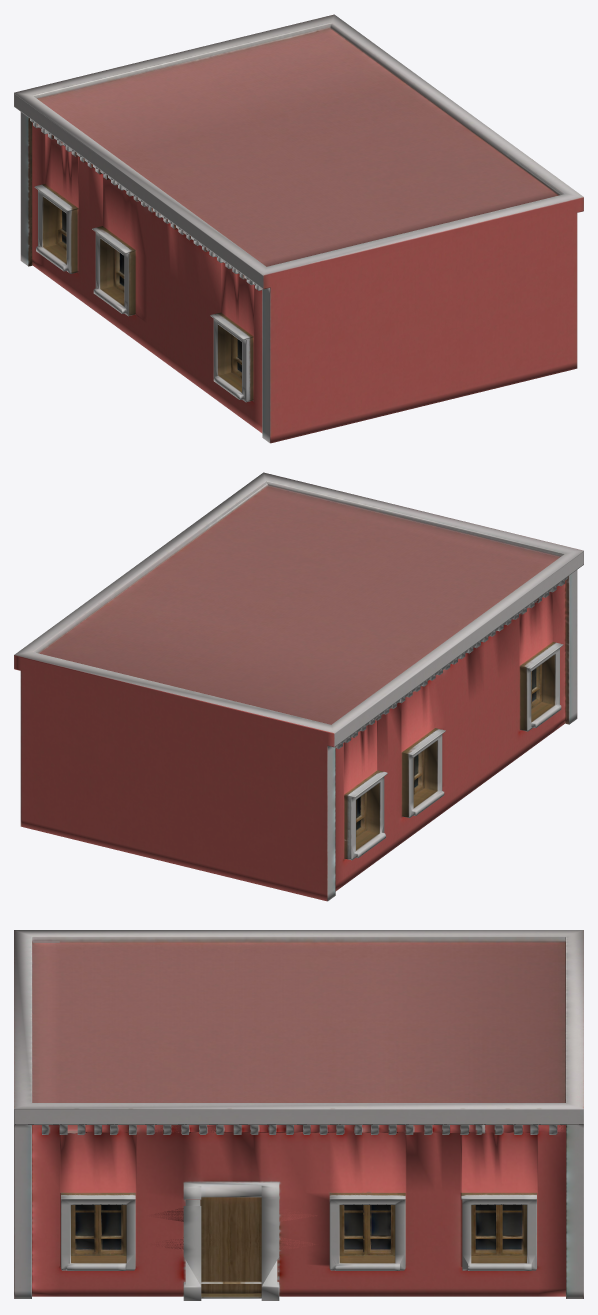
Rendered from tripo_convert_2e552d07-94de-49cb-9a55-928d0bcb803a.fbx.
3 renders of one model, top to bottom at view 1: azimuth 30°, elevation 25°; view 2: azimuth 150°, elevation 25°; view 3: azimuth 270°, elevation 25°, orthographic. The views are drawn at different scales.
Parts seen in each view (by area): view 1: tripo_node_2e552d07; view 2: tripo_node_2e552d07; view 3: tripo_node_2e552d07.
Boxes of the visible parts, <box> form: tripo_node_2e552d07: <box>14,14,583,443</box>; tripo_node_2e552d07: <box>14,472,583,901</box>; tripo_node_2e552d07: <box>14,930,583,1300</box>.
Bounding box in the file's own units: 0.7396 × 0.3727 × 0.9919.
